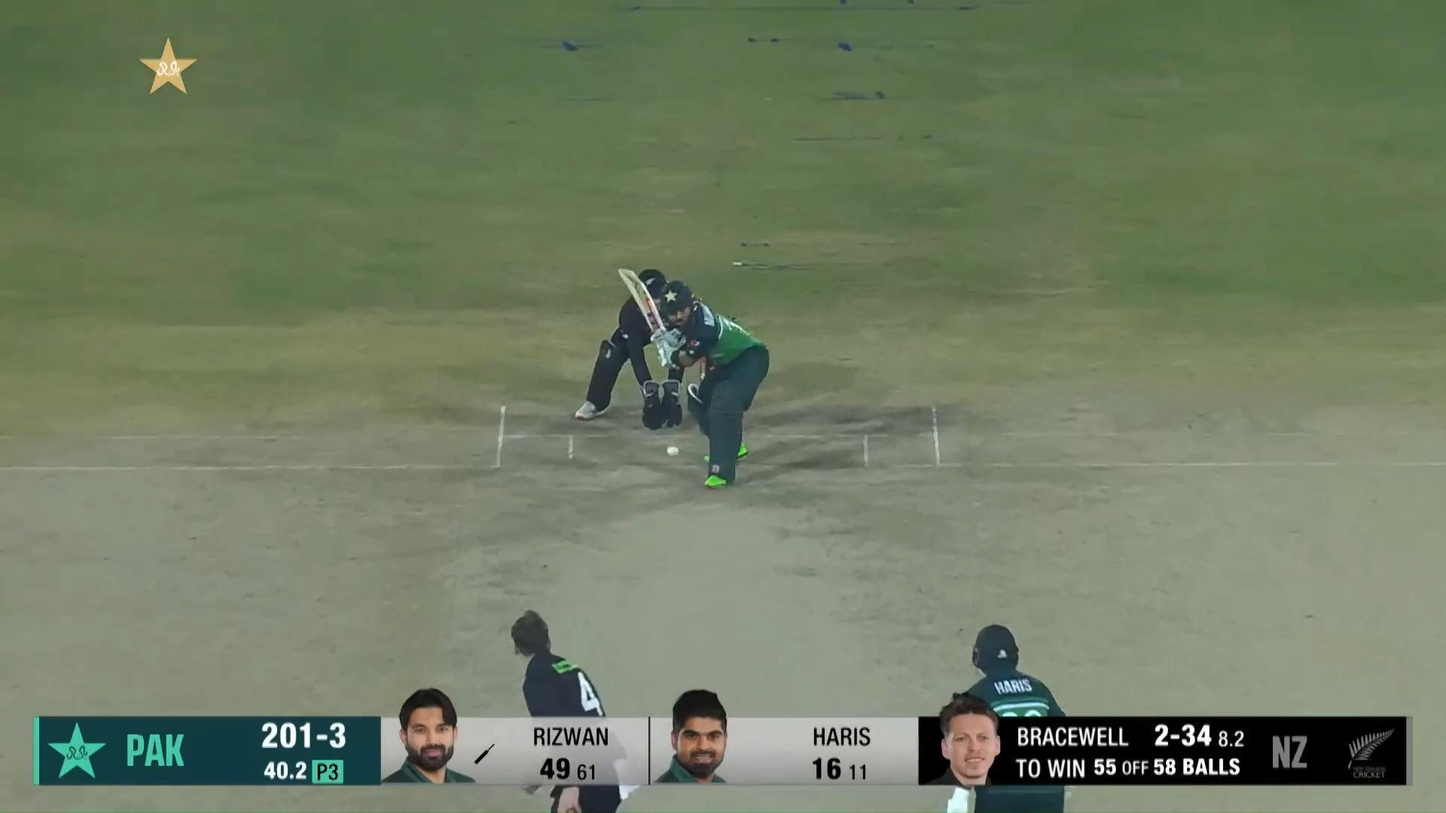BM 1: (616, 266, 770, 489)
BO: (510, 608, 639, 813)
